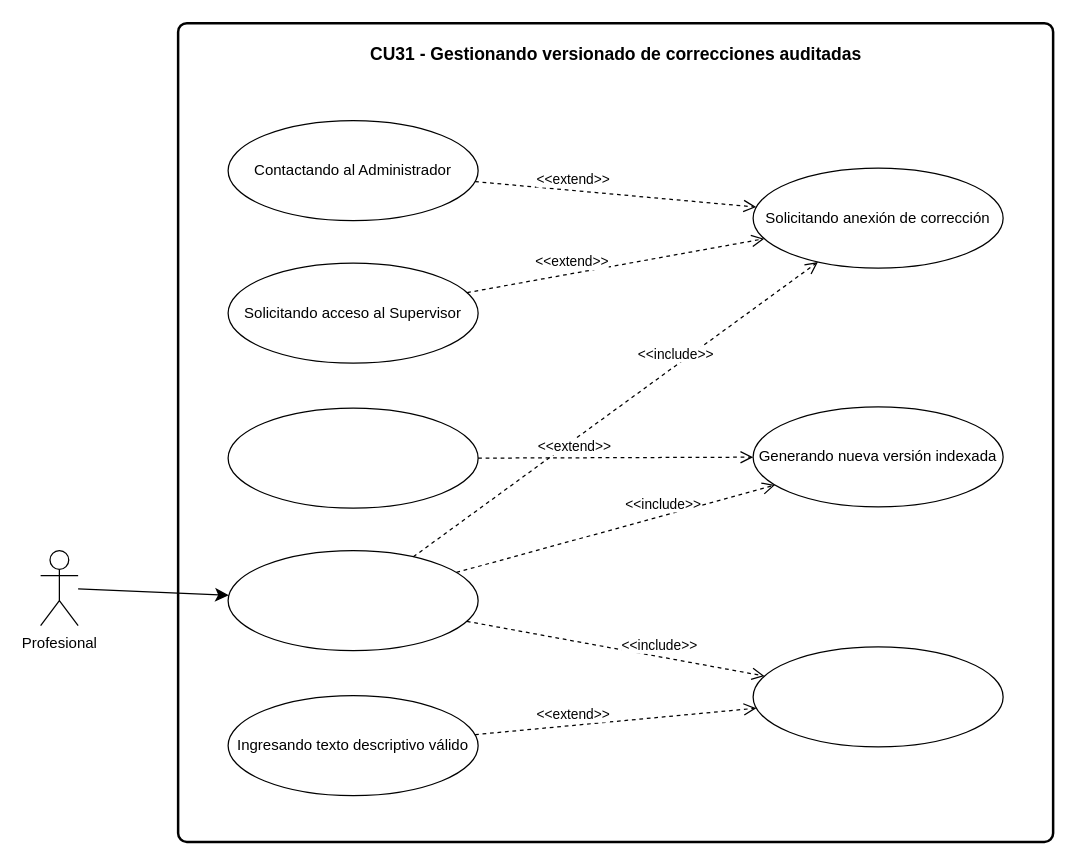
Some shapes in this 1075 by 864 pixel diagram are drawn without their labels. Each missing label, with the centre of its shape:
"Gestionando versionado de correcciones auditadas" goes at point 352,600.
"Redactando aclaración correctiva" goes at point 877,696.
"Reintentando guardado de nueva versión" goes at point 352,457.
